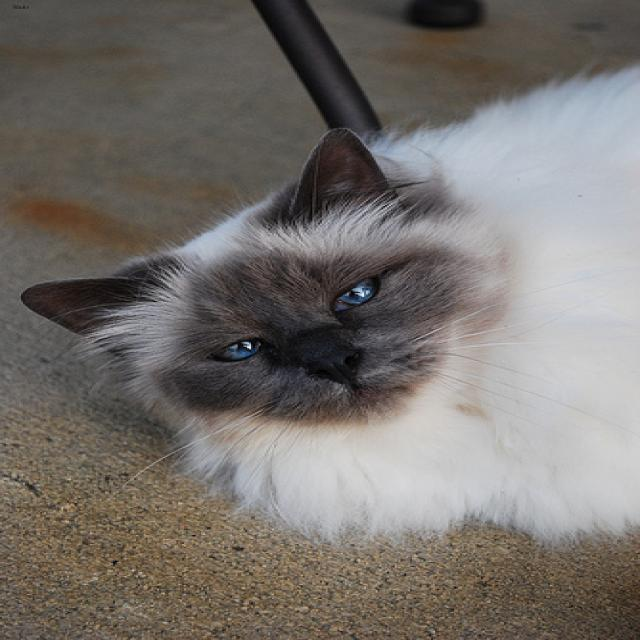Birman: (16, 127, 528, 446)
